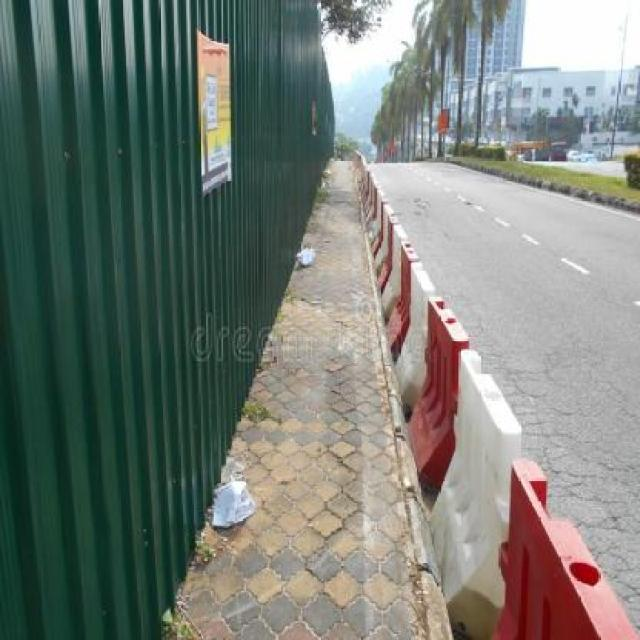fallen_object: (409, 263, 632, 640), (379, 199, 445, 443), (349, 125, 395, 280)
